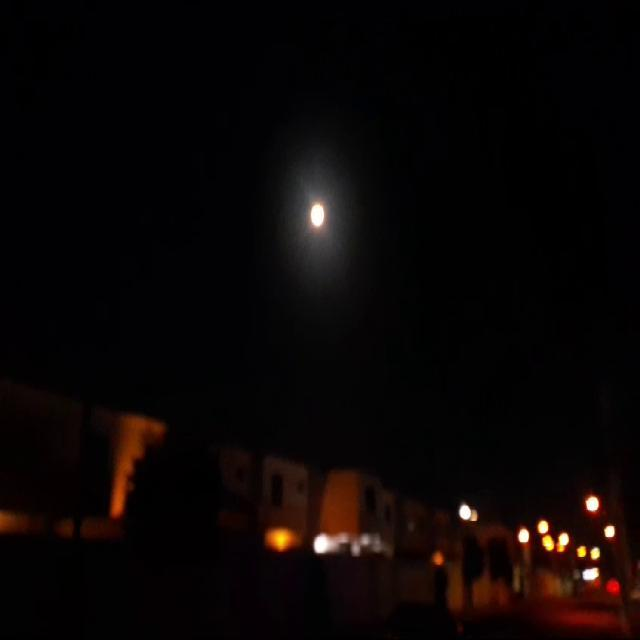moon: (298, 199, 321, 233)
